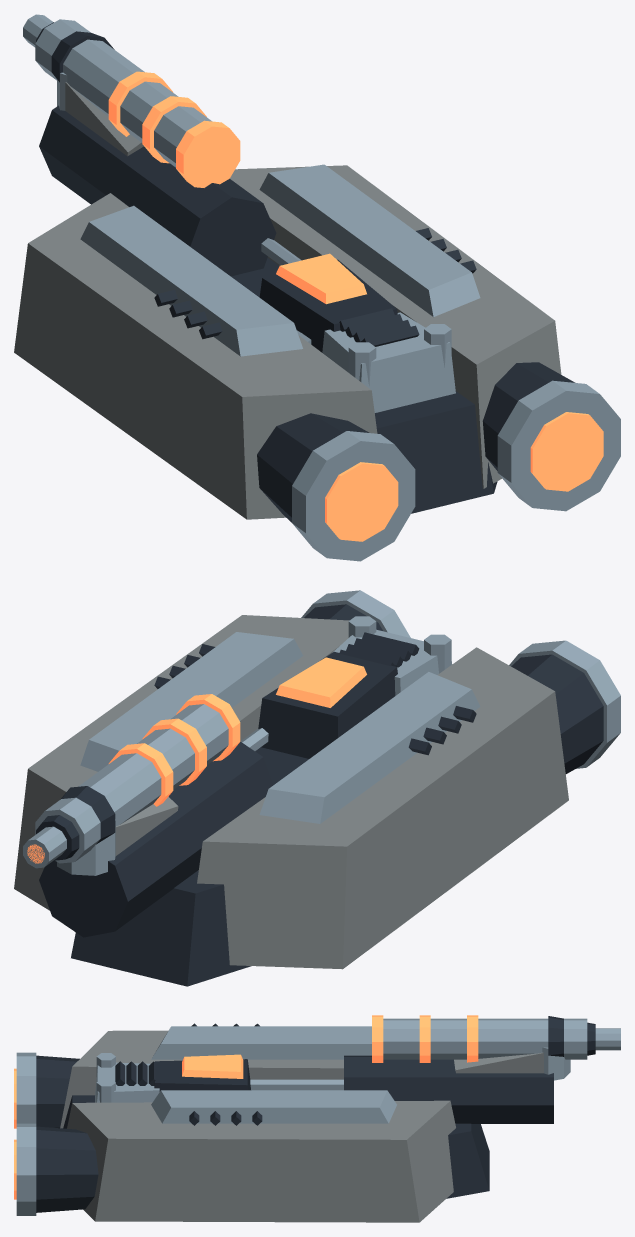
Rendered from c3_sniper.glb.
The picture shows the model from 3 angles, top to bottom: view 1: azimuth 30°, elevation 25°; view 2: azimuth 150°, elevation 25°; view 3: azimuth 270°, elevation 25°; orthographic projection. The views are drawn at different scales.
Parts seen in each view (by area): view 1: c3_sniper / Armor, c3_sniper / Titanium, c3_sniper / Chassis, c3_sniper / Energy; view 2: c3_sniper / Armor, c3_sniper / Chassis, c3_sniper / Titanium, c3_sniper / Energy; view 3: c3_sniper / Armor, c3_sniper / Titanium, c3_sniper / Chassis, c3_sniper / Energy.
Part boxes in pixels (x1,y1,x2,y2): c3_sniper / Armor: (14,82,561,519); c3_sniper / Titanium: (23,14,620,561); c3_sniper / Chassis: (36,22,575,522); c3_sniper / Energy: (108,71,603,541); c3_sniper / Armor: (14,615,568,969); c3_sniper / Chassis: (36,604,603,986); c3_sniper / Titanium: (23,590,620,875); c3_sniper / Energy: (27,657,366,863); c3_sniper / Armor: (60,1030,543,1222); c3_sniper / Titanium: (16,1018,620,1215); c3_sniper / Chassis: (36,1016,595,1212); c3_sniper / Energy: (14,1015,478,1199).
Bounding box in the file's own units: 0.96 × 0.63 × 2.17.
